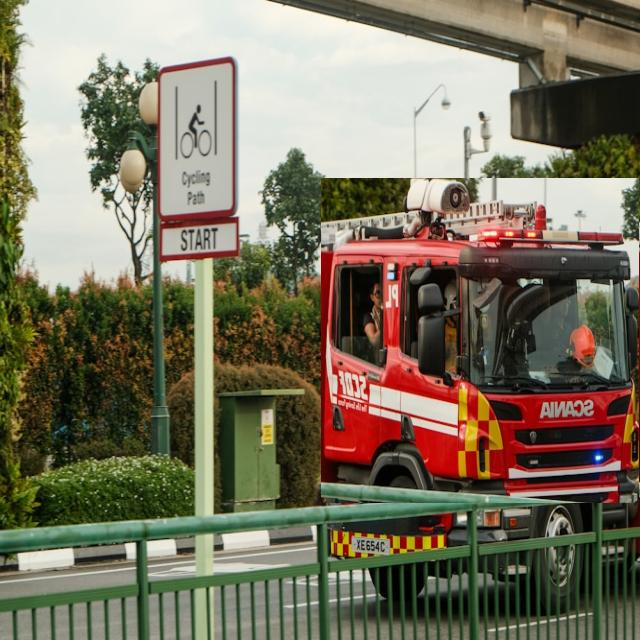emergency: (321, 178, 640, 503)
